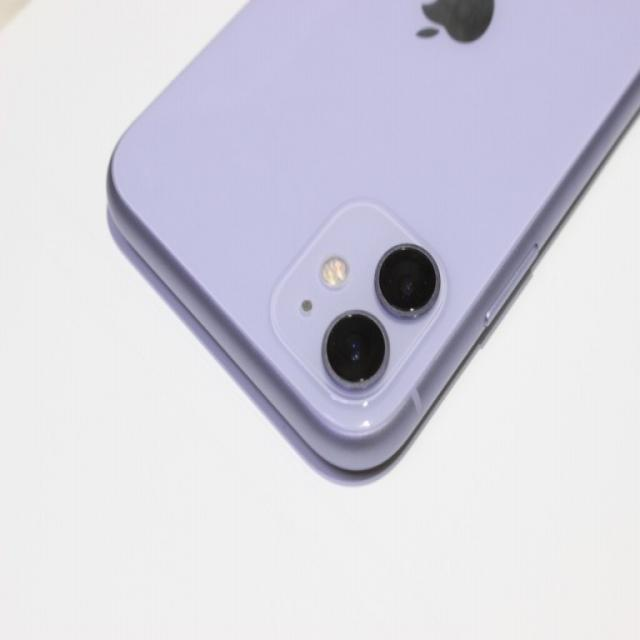Mobile: (104, 0, 640, 479)
